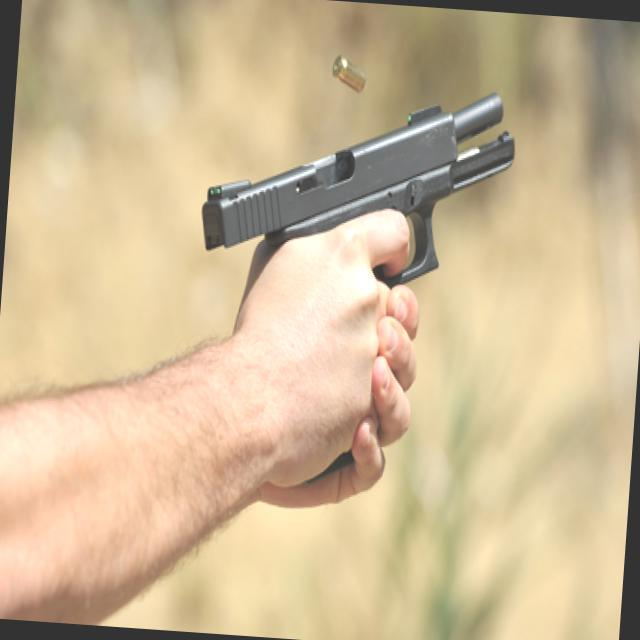handgun: (182, 66, 524, 499)
